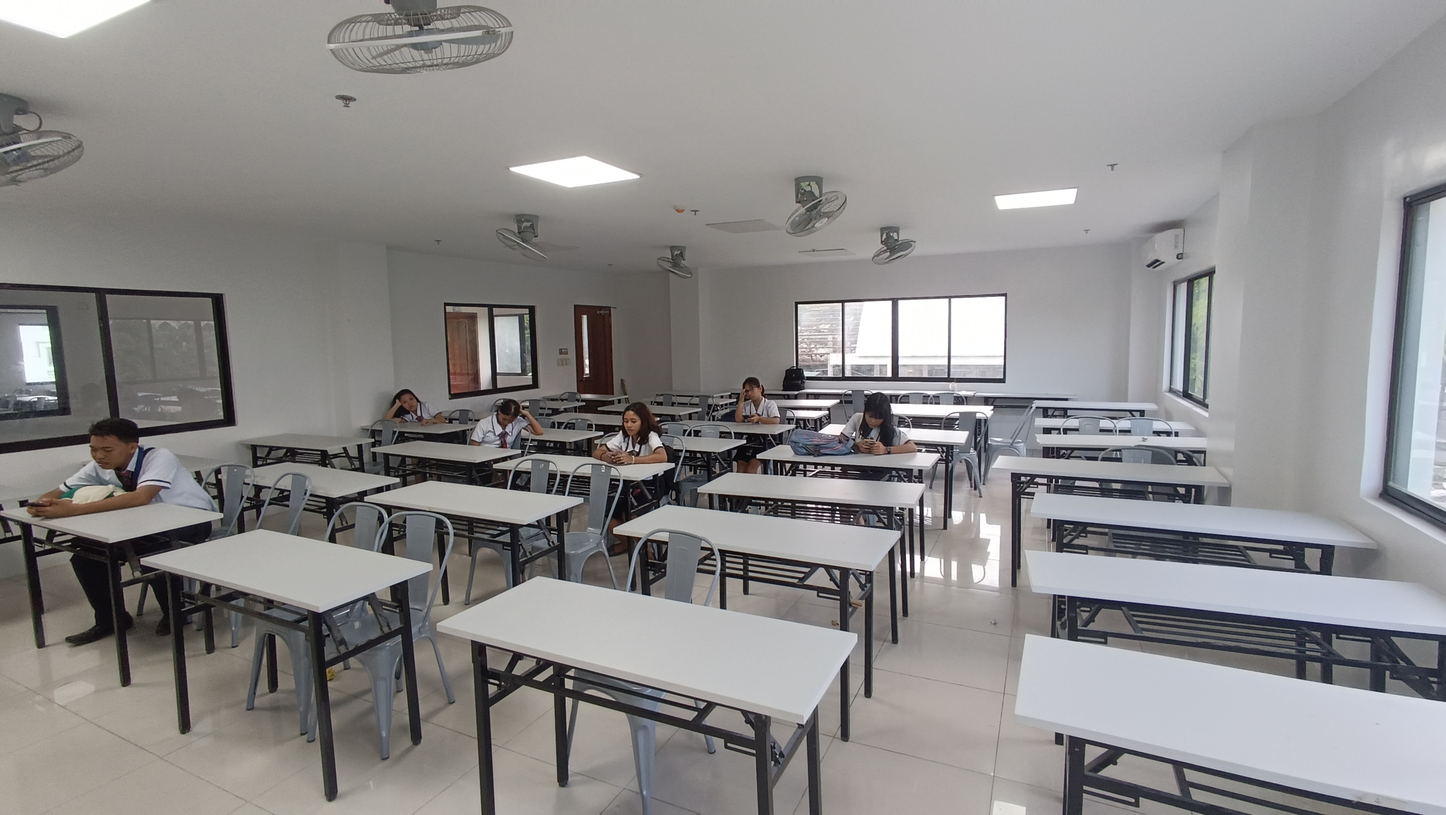with-student: (1, 408, 232, 577), (495, 403, 678, 491), (755, 393, 941, 479), (369, 396, 544, 470), (658, 376, 796, 440), (353, 382, 478, 439)
